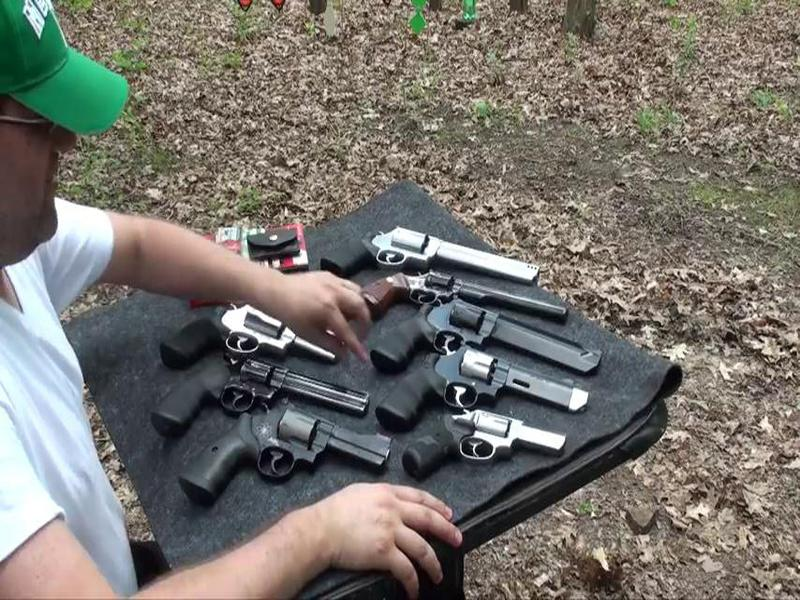Revolver: (402, 411, 566, 490)
